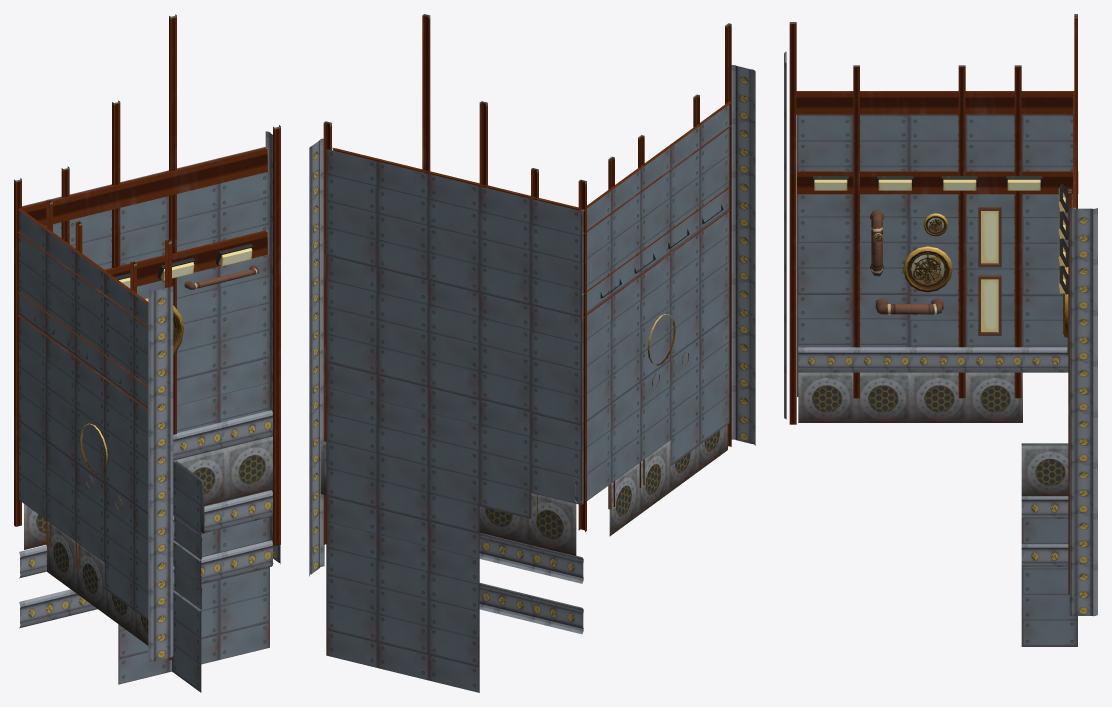
The model's file is normal2.fbx.
3 views of the same model, side by side, from view 1: azimuth 30°, elevation 25°; view 2: azimuth 150°, elevation 25°; view 3: azimuth 270°, elevation 25° (orthographic). The views are drawn at different scales.
Visible parts, largest first — view 1: Wall14.003; view 2: Wall14.003; view 3: Wall14.003.
Boxes of the visible parts, <box> form: Wall14.003: <box>14,14,280,692</box>; Wall14.003: <box>309,14,755,692</box>; Wall14.003: <box>784,14,1097,646</box>.
Bounding box in the file's own units: 2226 × 4962 × 2234.
